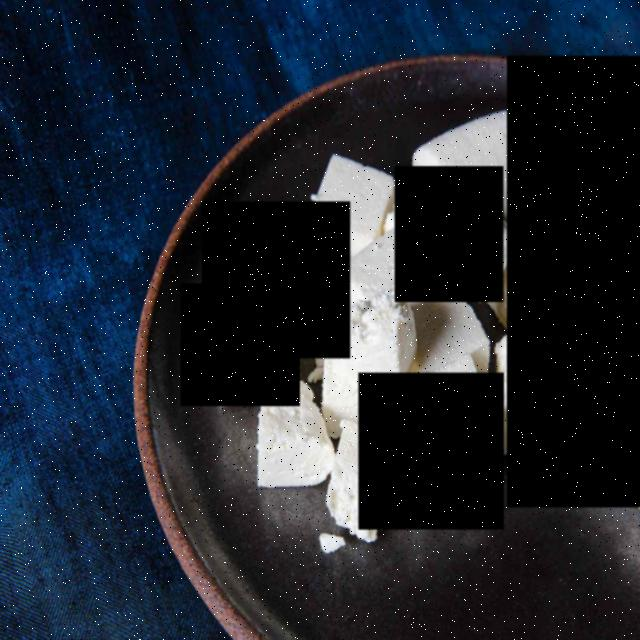Paneer: (507, 55, 640, 508), (202, 202, 350, 358), (359, 373, 504, 530), (395, 166, 504, 302), (181, 284, 300, 406)
